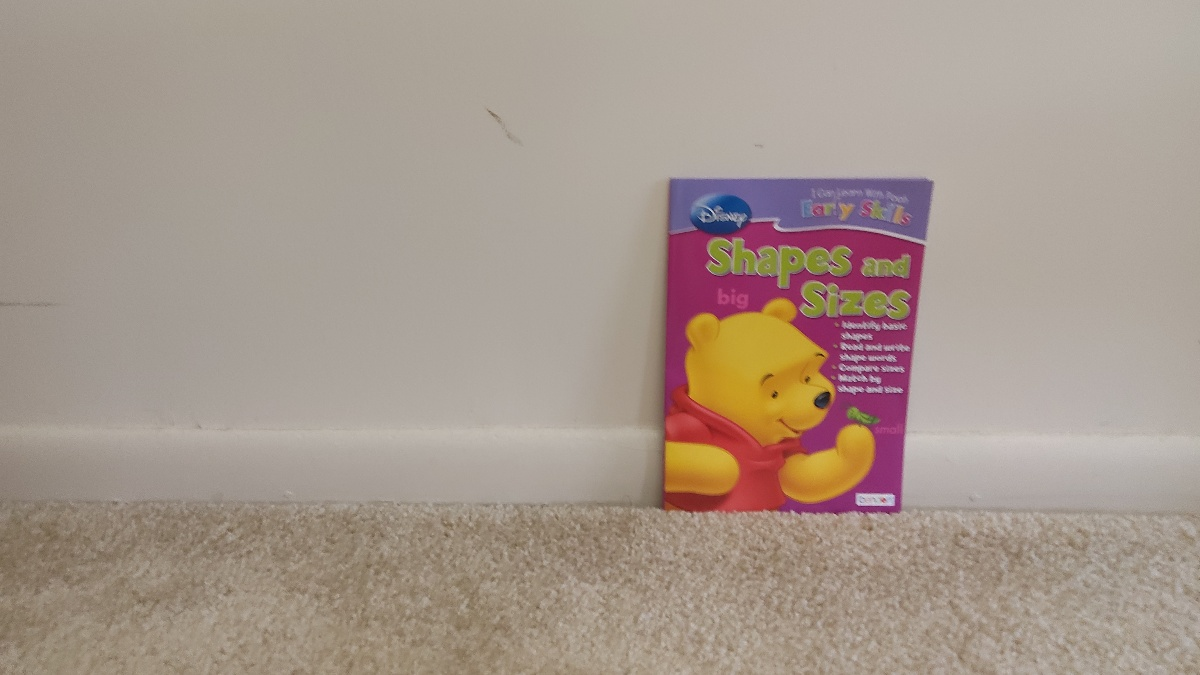book: (667, 179, 906, 514)
